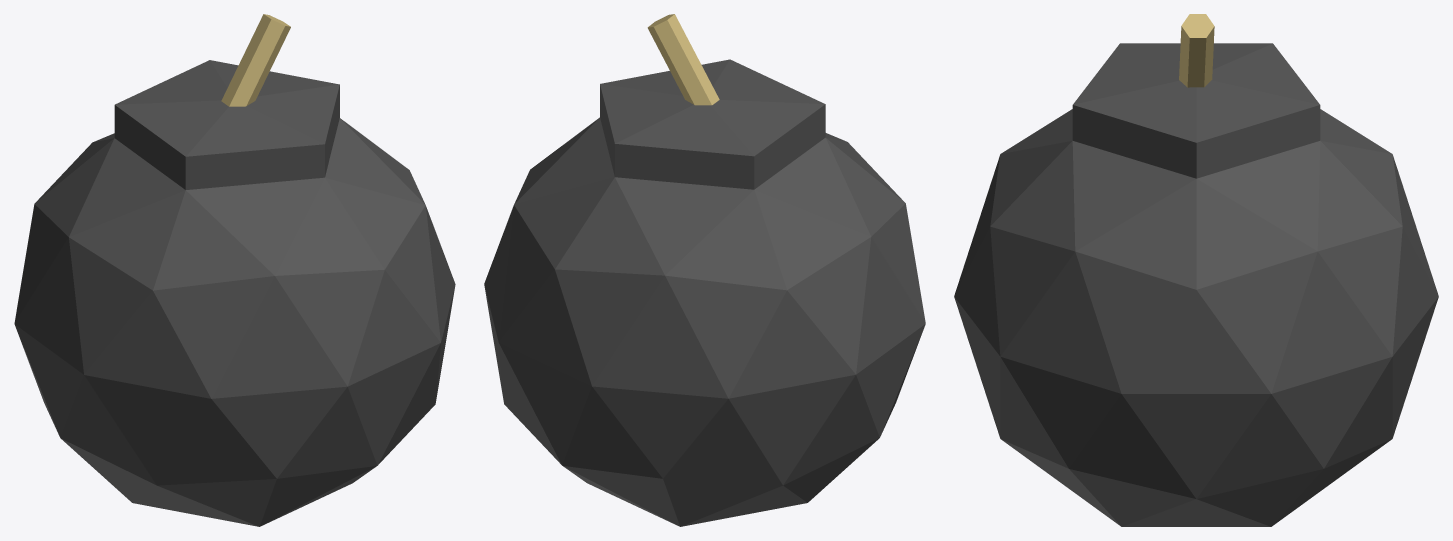
Rendered from ExportedBlenderFBXFile.fbx.
3 views of the same model, side by side, from view 1: azimuth 30°, elevation 25°; view 2: azimuth 150°, elevation 25°; view 3: azimuth 270°, elevation 25° (orthographic). The views are drawn at different scales.
Parts seen in each view (by area): view 1: Bomb; view 2: Bomb; view 3: Bomb.
Boxes of the visible parts, x1,y1,x2,y2 form: Bomb: [14, 14, 455, 526]; Bomb: [484, 14, 925, 526]; Bomb: [954, 14, 1438, 526].
Size of the model in its own units: 1.9 by 2.37 by 2.
